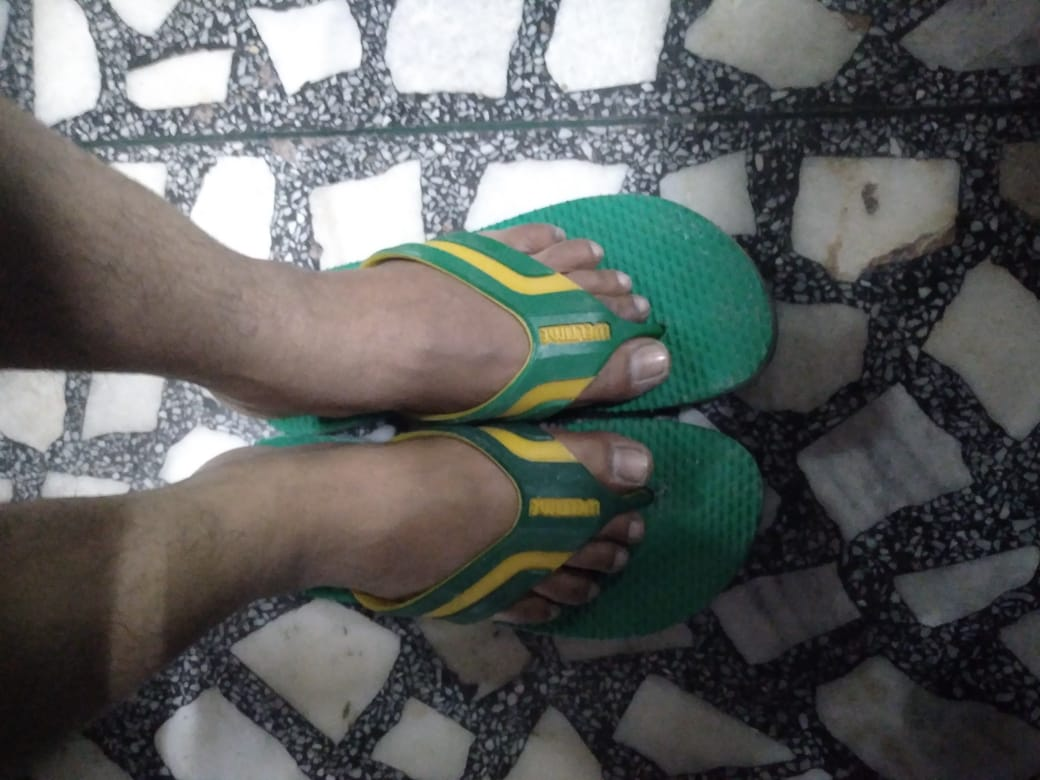Footwear: (259, 185, 786, 643)
